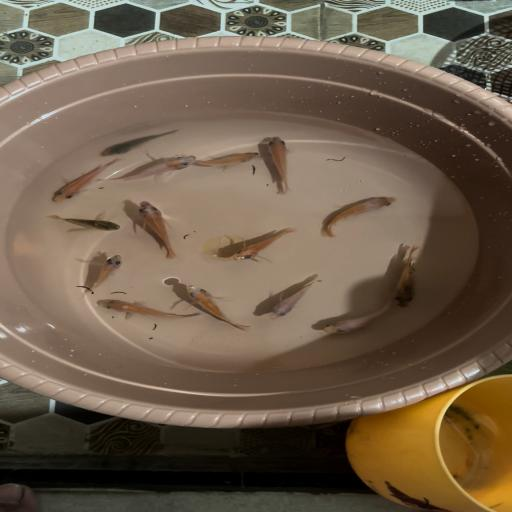nila: (171, 283, 261, 337), (124, 198, 192, 260), (317, 191, 400, 239), (37, 159, 121, 205), (316, 291, 394, 339), (217, 224, 306, 265), (256, 276, 328, 323), (38, 207, 124, 244), (387, 244, 430, 312), (108, 154, 199, 186), (258, 133, 302, 198), (95, 126, 182, 158), (77, 252, 134, 300), (92, 299, 204, 323), (193, 148, 262, 172)
